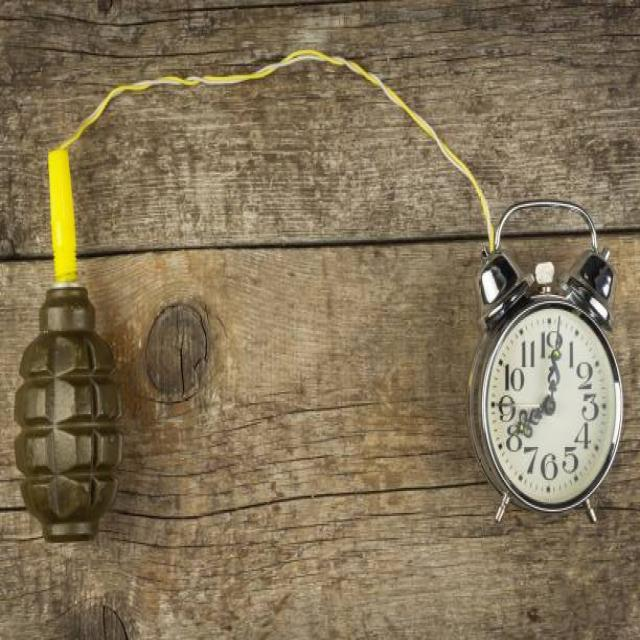grenade: (14, 279, 128, 552)
